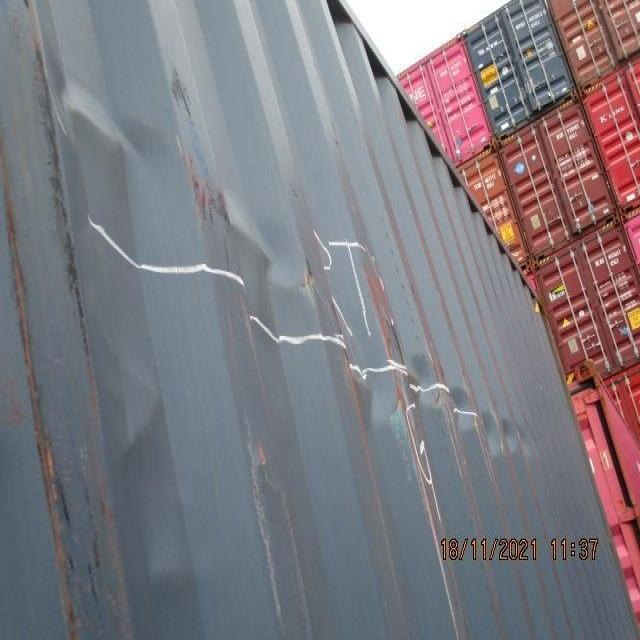Dent: (39, 48, 544, 487)
